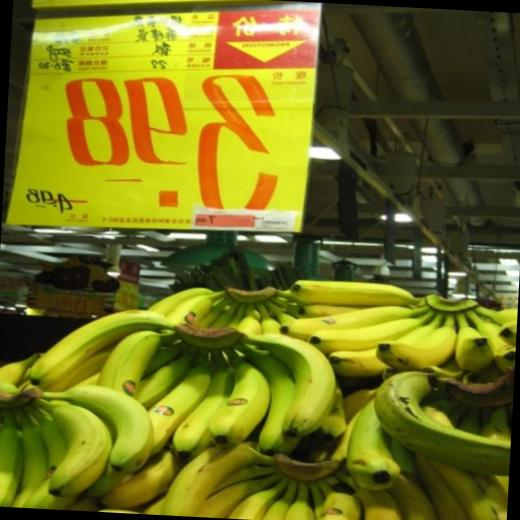Banana: (0, 264, 519, 520), (246, 266, 514, 404), (236, 333, 345, 438)
